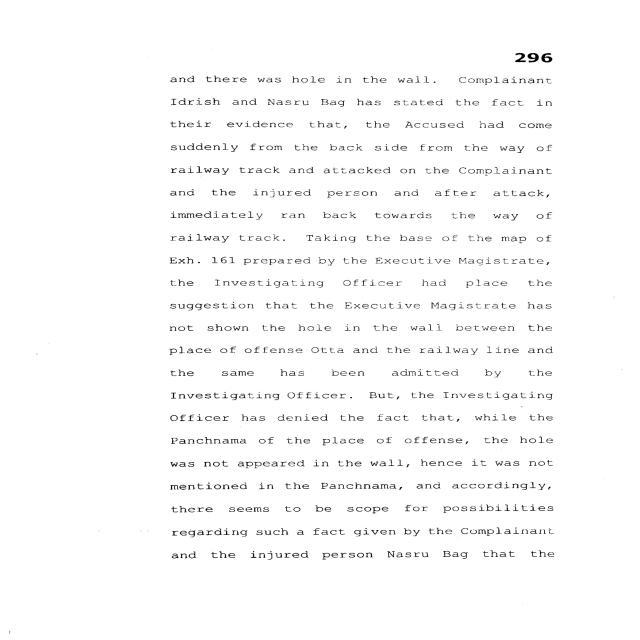page-number: (428, 6, 636, 70)
